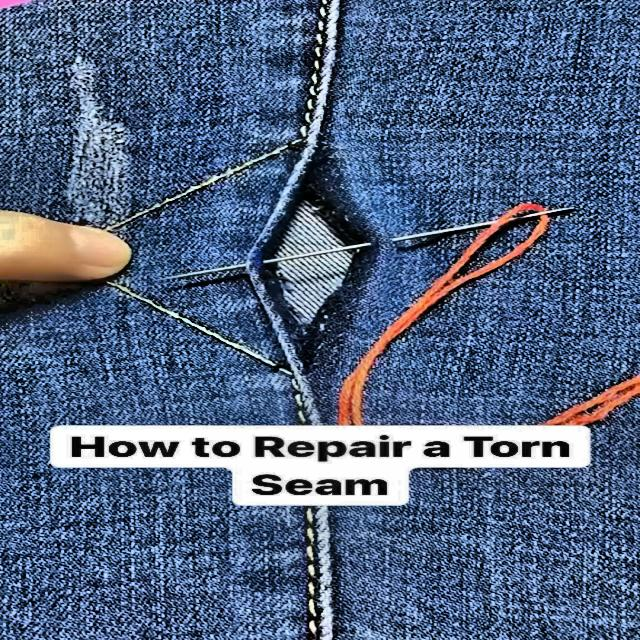seam: (220, 132, 391, 376)
